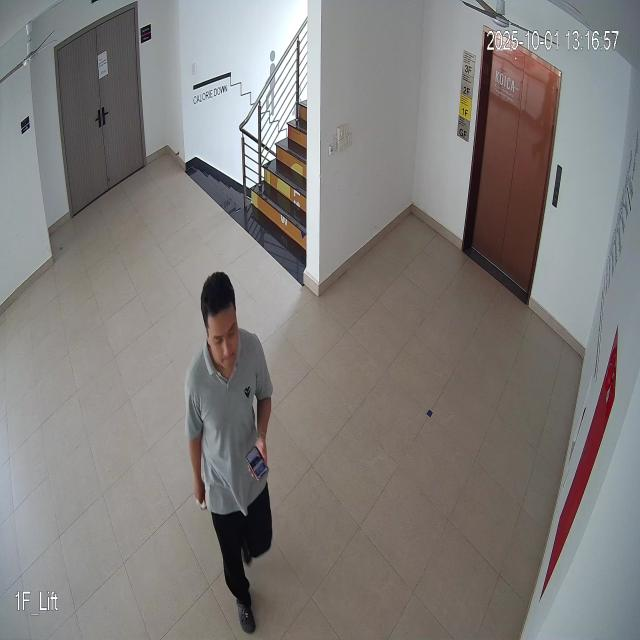face: (195, 266, 242, 378)
